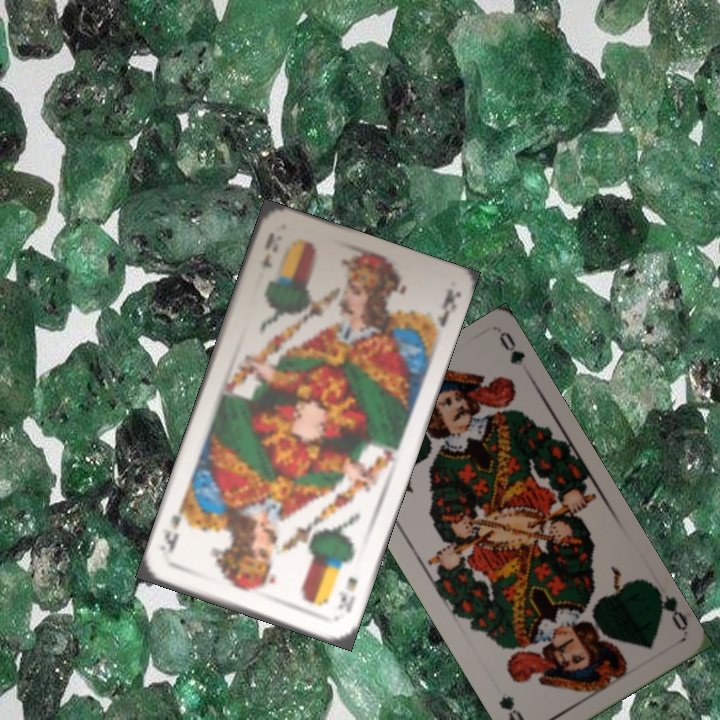EK: (334, 573, 360, 616), (260, 228, 282, 271)
GO: (649, 581, 691, 633)
